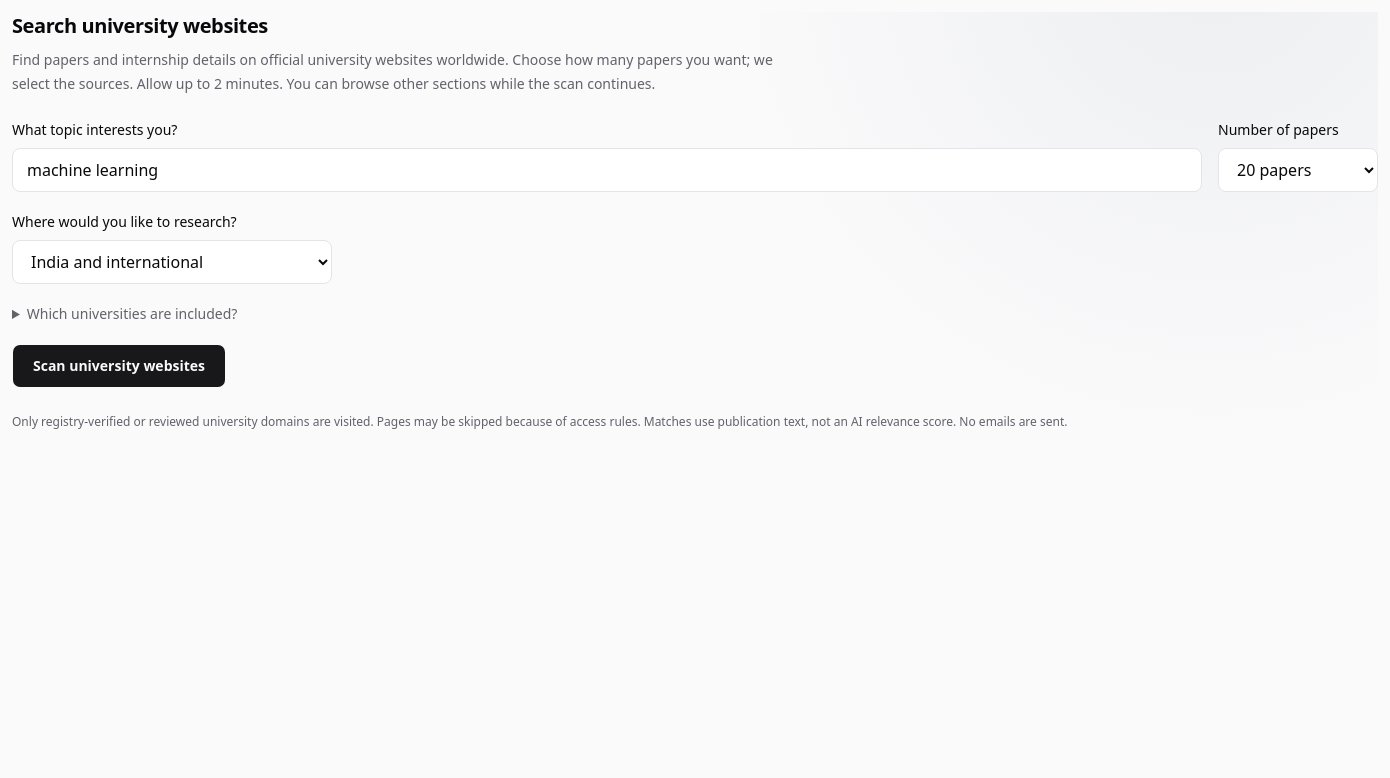
Test: retains partial evidence when a later stream error occurs
Click the button "Scan university websites" at x=119, y=366, box [12,344,226,388]
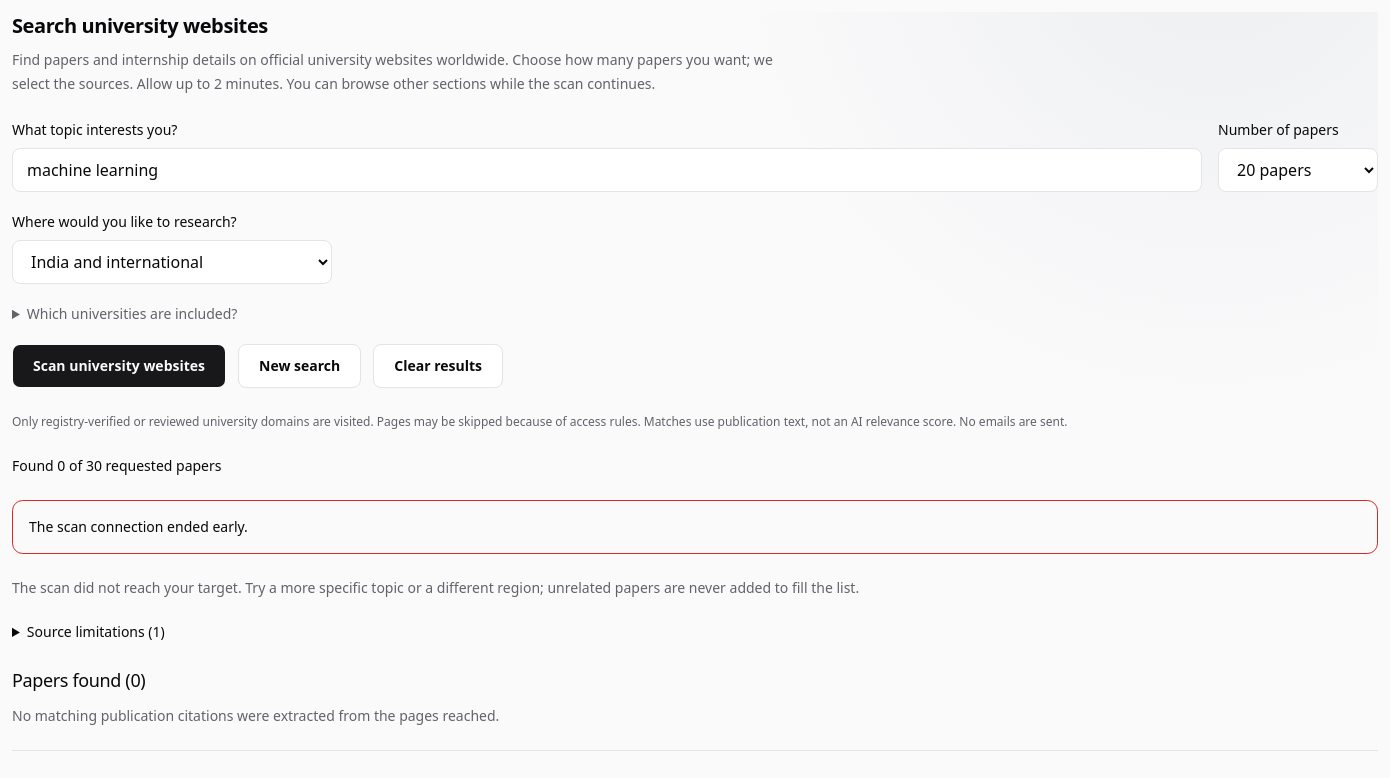
Expected: the message "The scan connection ended early." is shown, [12,500,1378,554]
Expected: the text "Found 0 of 30 requested papers" is shown, [12,456,222,475]
